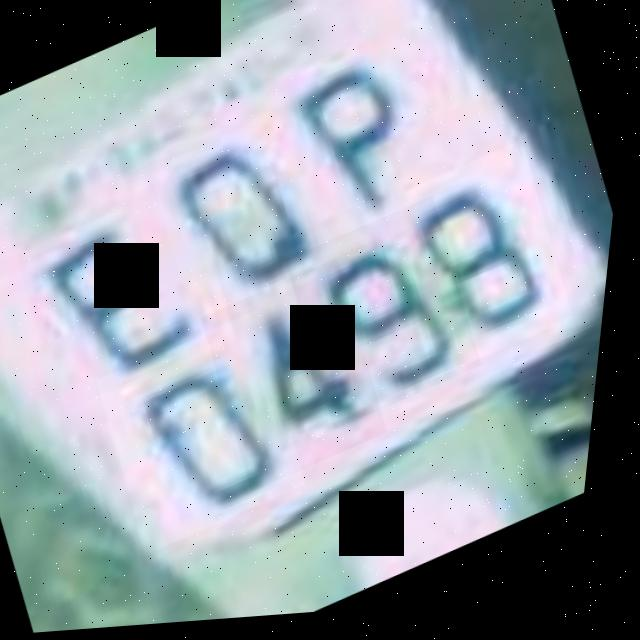0: (91, 311, 332, 562)
4: (194, 259, 412, 501)
8: (372, 144, 596, 391)
9: (277, 199, 505, 440)
E: (5, 182, 224, 418)
P: (255, 16, 479, 263)
